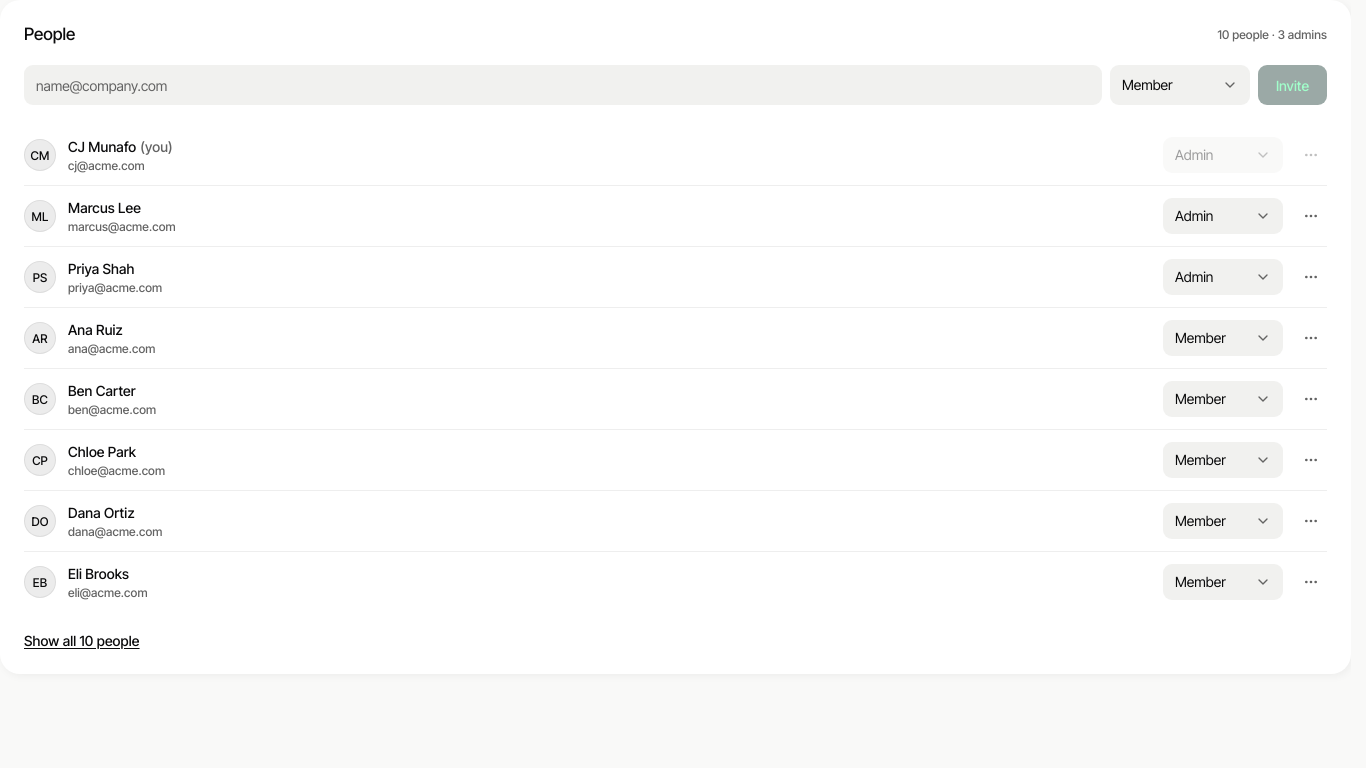
it: PeopleSection (PHASE-7 §9 D2, D8) › invites, then says so in a toast
This screenshot has width=1366, height=768.
expect the button "Invite" is disabled: met, box [1258,65,1327,105]
Type "New@Acme.com" into the field named "Invite email" at (563, 85), box [24,65,1102,105]
Then press Enter
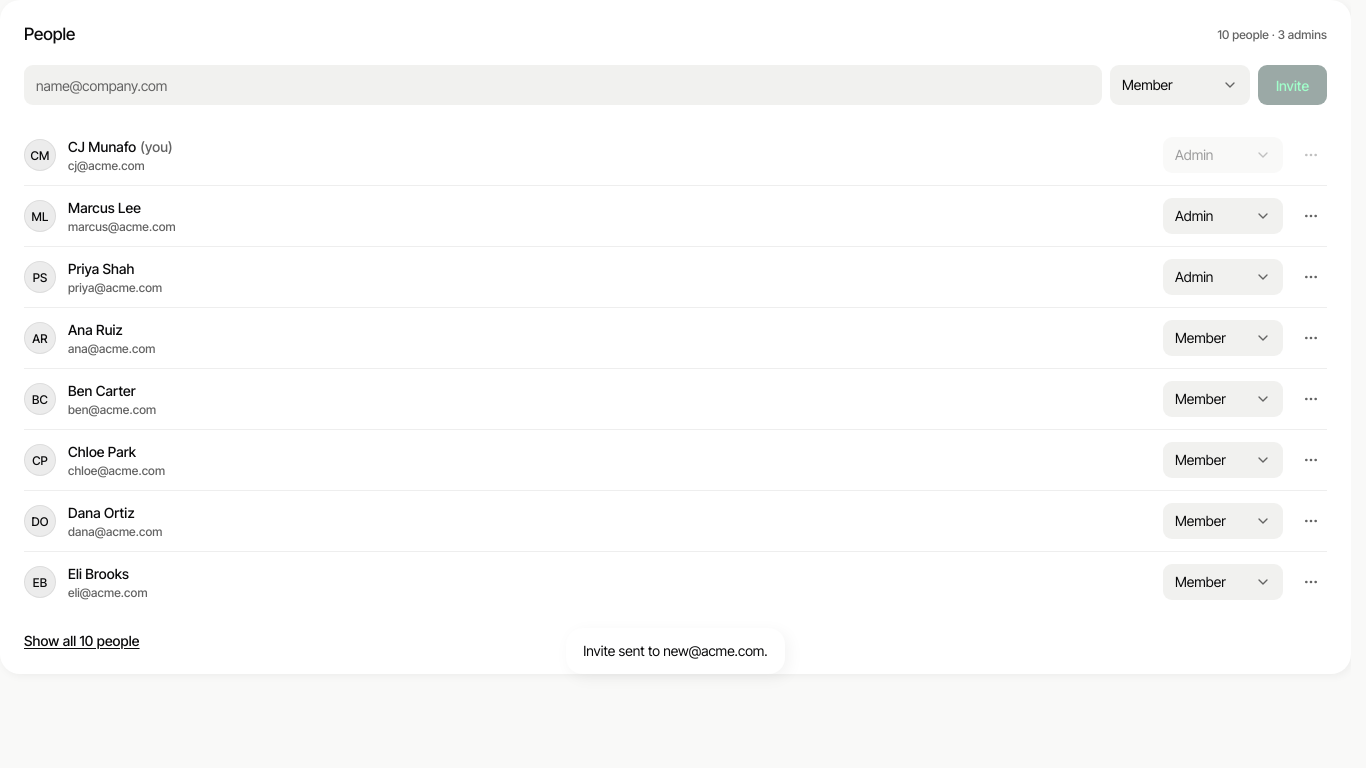
expect the text "Invite sent to new@acme.com." is shown: met, box [583,641,768,661]
